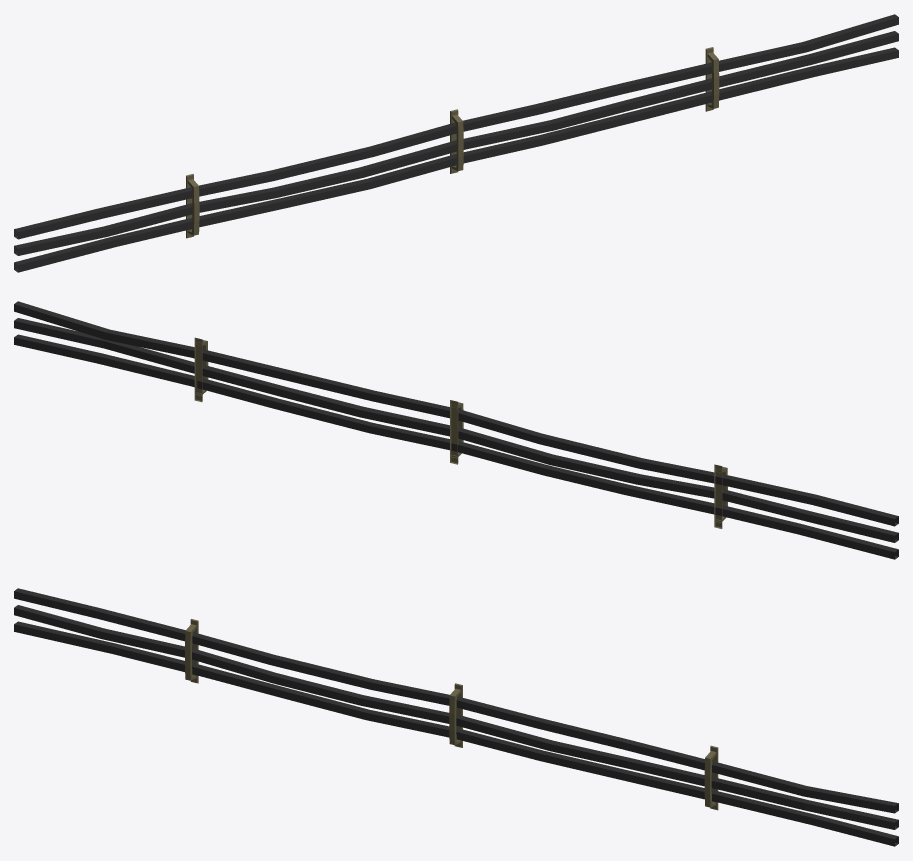
The model's file is SW_ENV_Wires3_StationWall_01_05m.fbx.
3 views of the same model, one above another, from view 1: azimuth 30°, elevation 25°; view 2: azimuth 150°, elevation 25°; view 3: azimuth 330°, elevation 25° (orthographic).
Visible parts, largest first — view 1: SW_ENV_Wires3_StationWall_01_05m; view 2: SW_ENV_Wires3_StationWall_01_05m; view 3: SW_ENV_Wires3_StationWall_01_05m.
Part boxes in pixels (x1,y1,x2,y2): SW_ENV_Wires3_StationWall_01_05m: [14, 14, 898, 272]; SW_ENV_Wires3_StationWall_01_05m: [14, 301, 898, 559]; SW_ENV_Wires3_StationWall_01_05m: [14, 588, 898, 846].
Bounding box in the file's own units: 500 × 34.12 × 7.06.
